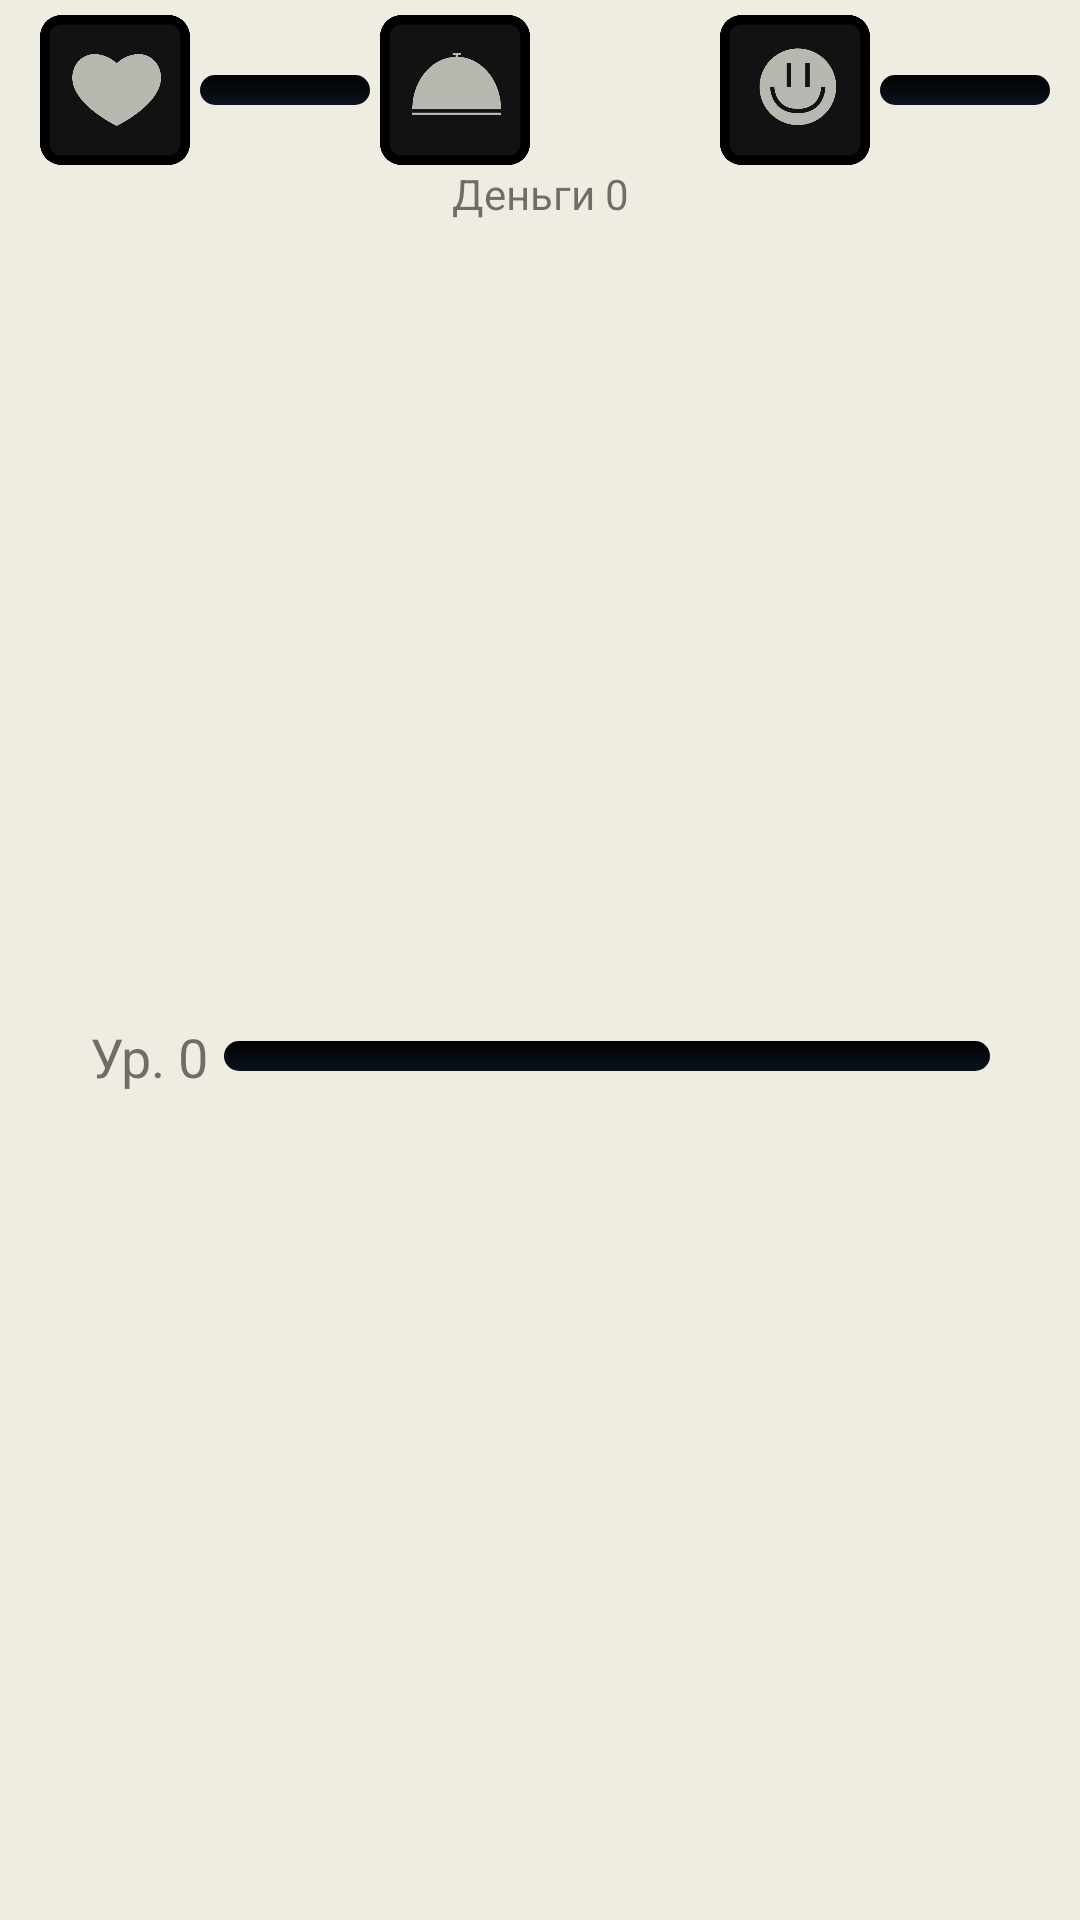

Screen size 1080x1920. Icon name, then its box in pixels as bbox=[x1, y1, x2, y2]:
heart: bbox=[40, 15, 190, 165]
hunger: bbox=[380, 15, 530, 165]
mood: bbox=[720, 15, 870, 165]
